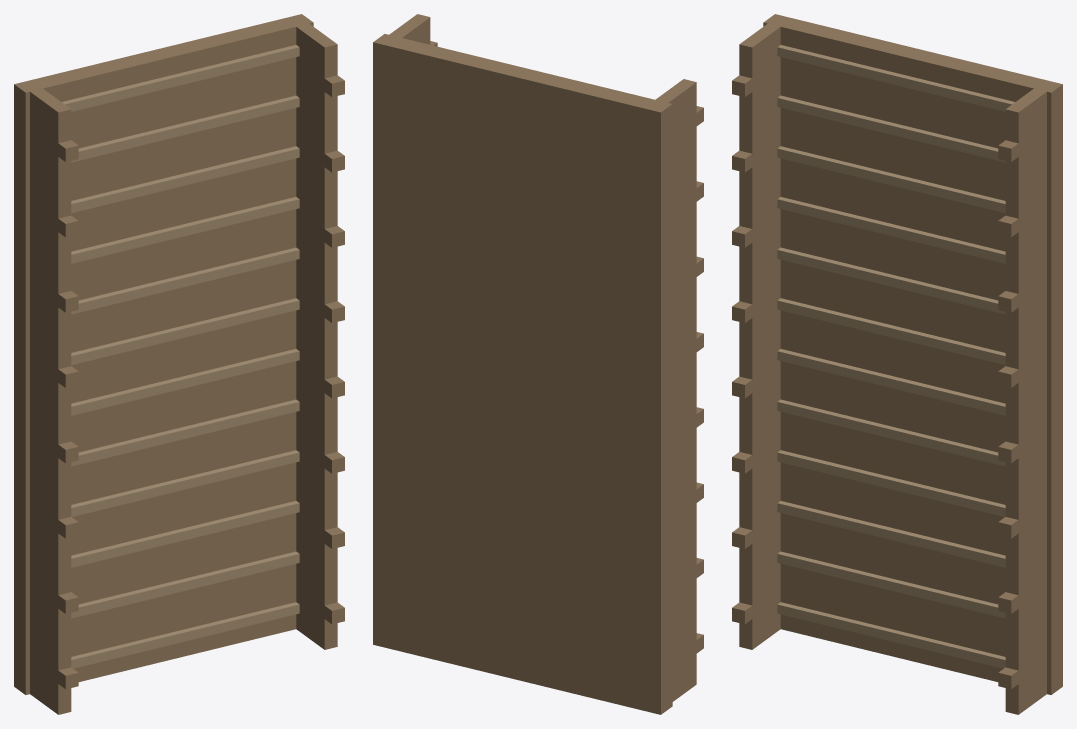
The model's file is wooden_bridge.glb.
The picture shows the model from 3 angles, left to right: view 1: azimuth 30°, elevation 25°; view 2: azimuth 150°, elevation 25°; view 3: azimuth 330°, elevation 25°; orthographic projection.
Visible parts, largest first — view 1: deck, rail_-1.85, rail_1.85, plank_3.7, plank_-0.3363636363636364, plank_1.6818181818181817, plank_2.3545454545454545, plank_-3.7, plank_-2.3545454545454545, plank_-1.681818181818182, plank_0.336363636363636, plank_-3.0272727272727273 (+16 smaller); view 2: deck, rail_-1.85, rail_1.85; view 3: deck, rail_1.85, rail_-1.85, plank_3.7, plank_-0.3363636363636364, plank_1.6818181818181817, plank_2.3545454545454545, plank_-3.7, plank_-2.3545454545454545, plank_-1.681818181818182, plank_0.336363636363636, plank_-3.0272727272727273 (+5 smaller).
Part boxes in pixels (box(x1,y1,x2,y2)): deck: box(14, 14, 313, 694); rail_-1.85: box(28, 86, 71, 714); rail_1.85: box(295, 21, 337, 649); plank_3.7: box(62, 45, 299, 111); plank_-0.3363636363636364: box(71, 349, 299, 415); plank_1.6818181818181817: box(71, 197, 299, 263); plank_2.3545454545454545: box(71, 146, 299, 213); plank_-3.7: box(71, 602, 299, 668); plank_-2.3545454545454545: box(71, 501, 299, 567); plank_-1.681818181818182: box(71, 450, 299, 516); plank_0.336363636363636: box(71, 298, 299, 364); plank_-3.0272727272727273: box(71, 551, 299, 618); deck: box(373, 34, 672, 714); rail_-1.85: box(655, 79, 696, 701); rail_1.85: box(388, 14, 430, 44); deck: box(763, 14, 1062, 694); rail_1.85: box(1005, 86, 1049, 714); rail_-1.85: box(739, 21, 781, 649); plank_3.7: box(777, 45, 1014, 111); plank_-0.3363636363636364: box(777, 349, 1005, 415); plank_1.6818181818181817: box(777, 197, 1005, 263); plank_2.3545454545454545: box(777, 146, 1005, 213); plank_-3.7: box(777, 602, 1005, 668); plank_-2.3545454545454545: box(777, 501, 1005, 567); plank_-1.681818181818182: box(777, 450, 1005, 516); plank_0.336363636363636: box(777, 298, 1005, 364); plank_-3.0272727272727273: box(777, 551, 1005, 618).
Size of the model in its own units: 4 by 8 by 1.14.
